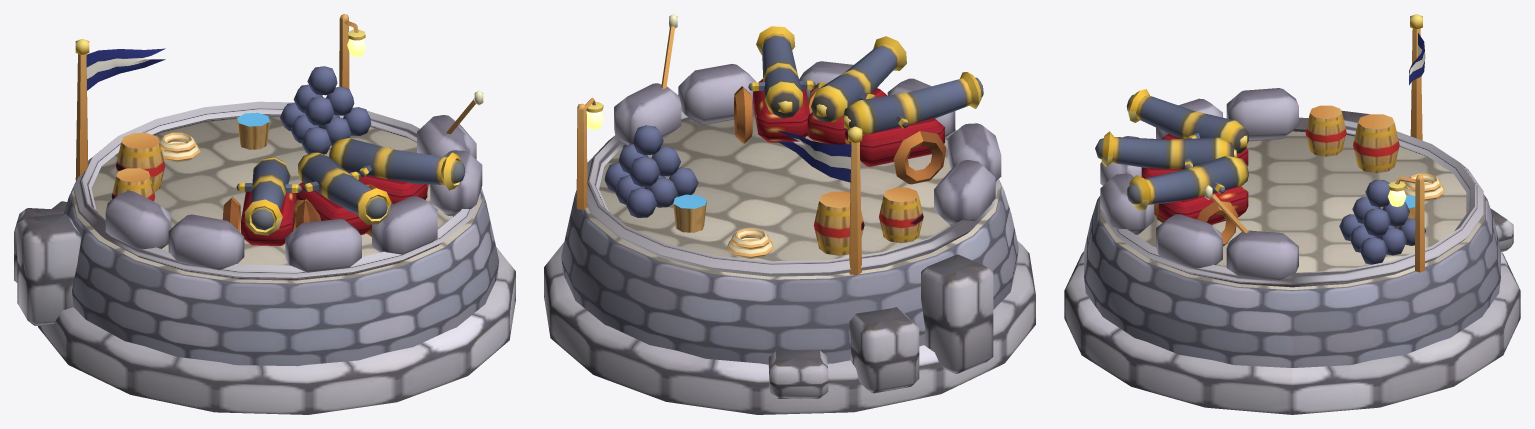
Rendered from battery.glb.
The picture shows the model from 3 angles, left to right: view 1: azimuth 30°, elevation 25°; view 2: azimuth 150°, elevation 25°; view 3: azimuth 270°, elevation 25°; orthographic projection. The views are drawn at different scales.
Parts seen in each view (by area): view 1: battery; view 2: battery; view 3: battery.
Boxes of the visible parts, x1,y1,x2,y2 form: battery: (14, 14, 515, 414); battery: (544, 14, 1035, 414); battery: (1064, 14, 1520, 414).
Size of the model in its own units: 7.04 by 4.03 by 6.8.
4 materials, 4 textured.
